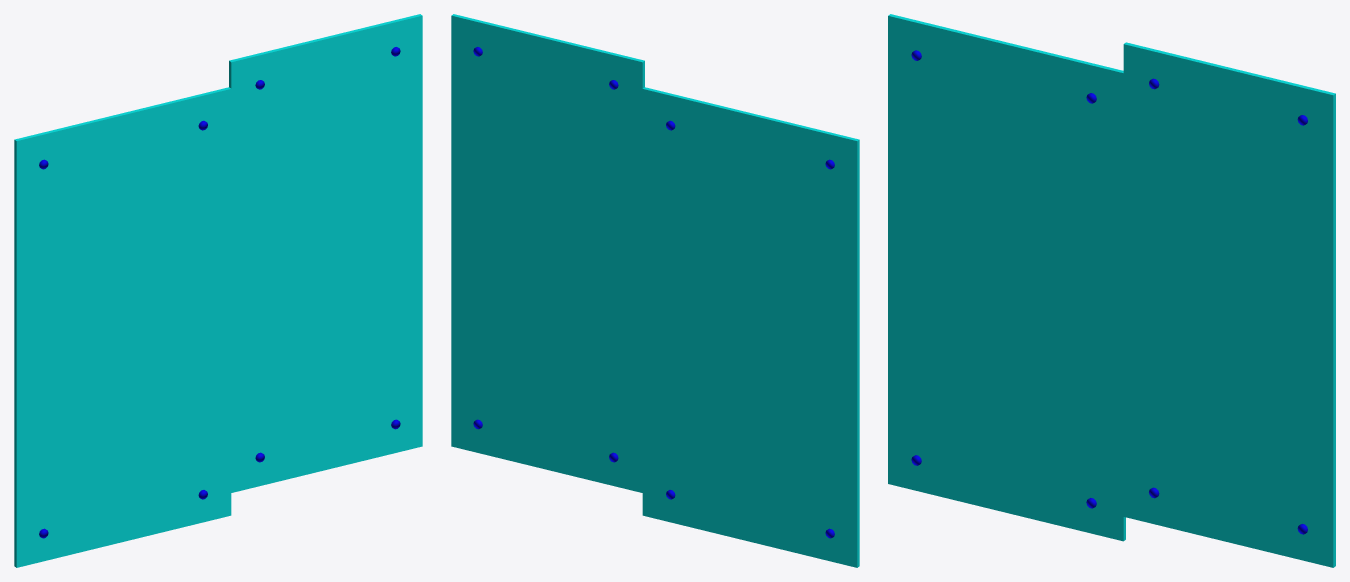
Rendered from cuadro_07_low.fbx.
3 renders of one model, left to right at view 1: azimuth 30°, elevation 25°; view 2: azimuth 150°, elevation 25°; view 3: azimuth 330°, elevation 25°, orthographic. The views are drawn at different scales.
Visible parts, largest first — view 1: pCube3, pCube4; view 2: pCube3, pCube4; view 3: pCube3, pCube4.
Boxes of the visible parts, x1,y1,x2,y2 form: pCube3: (14,87,231,567); pCube4: (229,14,422,492); pCube3: (642,87,859,567); pCube4: (451,14,644,492); pCube3: (888,14,1125,541); pCube4: (1123,42,1335,567).
Size of the model in its own units: 104 by 111 by 2.
